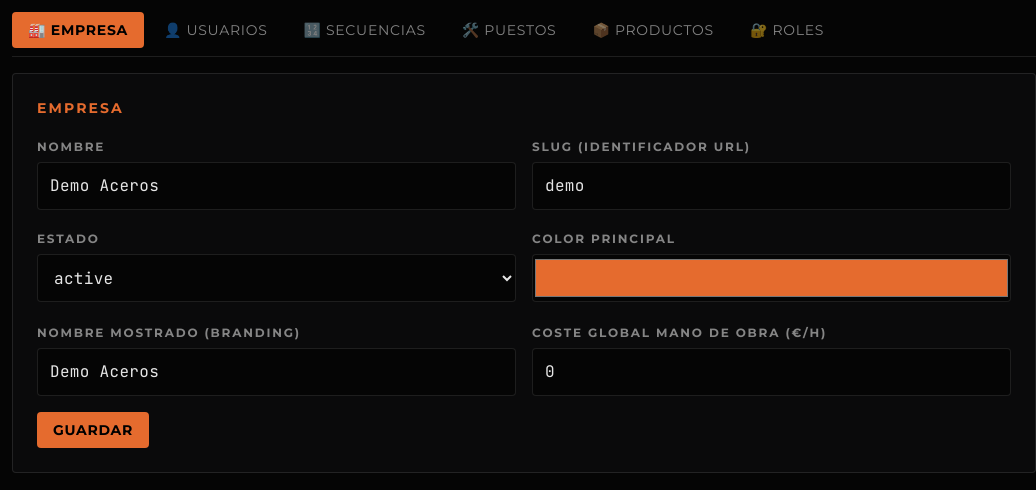
Test: Panel de Administración (spec 07) › muestra las secuencias y su siguiente número
Step 1. Click the button "🔢 Secuencias" → click(365, 30), box [287,12,442,48]
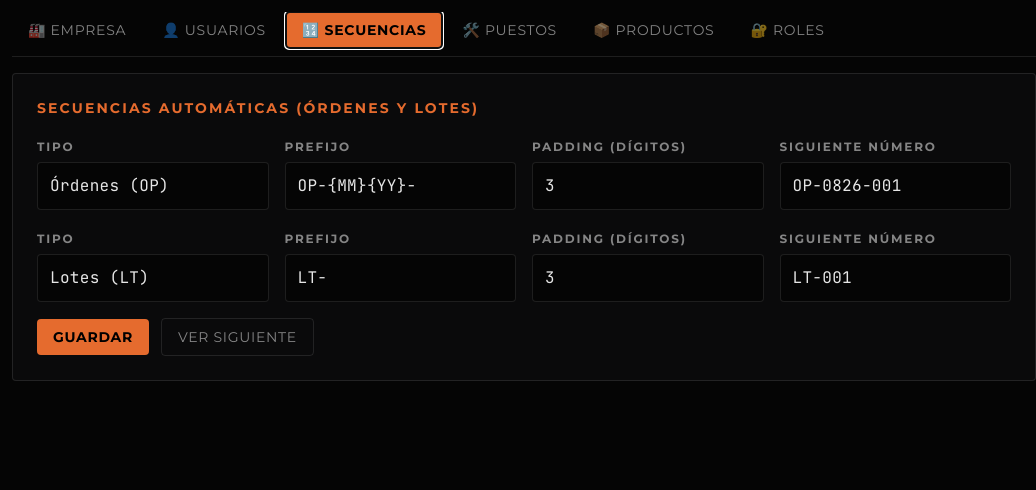
Expected: the 1st field showing "OP-0826-001" is shown, [780,162,1011,210]
Expected: the 2nd field showing "LT-001" is shown, [780,254,1011,302]
